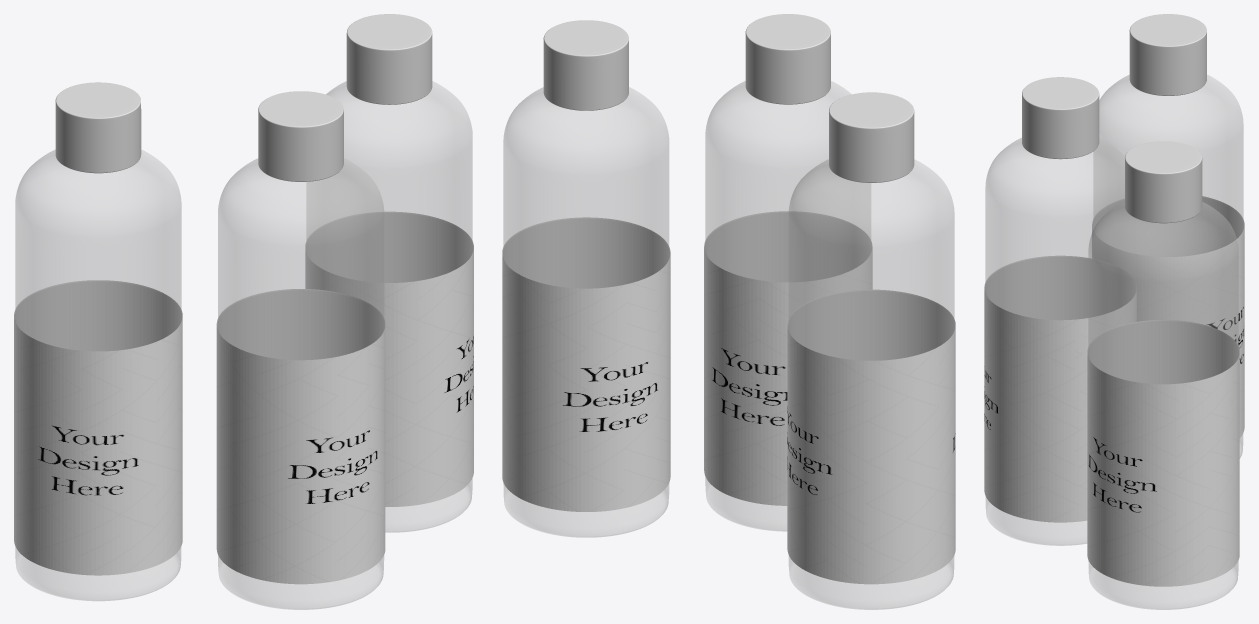
Rendered from Glass_Bottle-A6.glb.
3 views of the same model, side by side, from view 1: azimuth 30°, elevation 25°; view 2: azimuth 150°, elevation 25°; view 3: azimuth 270°, elevation 25° (orthographic). The views are drawn at different scales.
Visible parts, largest first — view 1: Circle.005, Circle.007, Circle.006, Circle.004, Circle.010, Circle.011, Circle.008, Circle.001, Circle.012, Circle.002, Circle.009, Circle.003; view 2: Circle.007, Circle.011, Circle.006, Circle.010, Circle.004, Circle.005, Circle.012, Circle.008, Circle.001, Circle.003, Circle.009, Circle.002; view 3: Circle.011, Circle.010, Circle.004, Circle.005, Circle.006, Circle.007, Circle.012, Circle.001, Circle.003, Circle.009, Circle.002, Circle.008.
Boxes of the visible parts, x1=… form: Circle.005: x1=216, y1=289, x2=385, y2=584; Circle.007: x1=14, y1=280, x2=182, y2=575; Circle.006: x1=15, y1=150, x2=181, y2=600; Circle.004: x1=218, y1=158, x2=383, y2=609; Circle.010: x1=306, y1=81, x2=472, y2=532; Circle.011: x1=305, y1=211, x2=473, y2=506; Circle.008: x1=14, y1=281, x2=181, y2=351; Circle.001: x1=217, y1=290, x2=384, y2=360; Circle.012: x1=306, y1=213, x2=473, y2=282; Circle.002: x1=55, y1=82, x2=141, y2=173; Circle.009: x1=346, y1=14, x2=432, y2=104; Circle.003: x1=258, y1=91, x2=343, y2=181; Circle.007: x1=787, y1=289, x2=955, y2=584; Circle.011: x1=502, y1=217, x2=670, y2=511; Circle.006: x1=789, y1=159, x2=954, y2=609; Circle.010: x1=503, y1=87, x2=668, y2=537; Circle.004: x1=705, y1=81, x2=870, y2=531; Circle.005: x1=704, y1=211, x2=872, y2=505; Circle.012: x1=503, y1=218, x2=669, y2=288; Circle.008: x1=788, y1=291, x2=954, y2=360; Circle.001: x1=704, y1=212, x2=871, y2=282; Circle.003: x1=745, y1=14, x2=830, y2=104; Circle.009: x1=543, y1=20, x2=628, y2=110; Circle.002: x1=829, y1=92, x2=914, y2=182; Circle.011: x1=1087, y1=320, x2=1239, y2=586; Circle.010: x1=1088, y1=202, x2=1238, y2=609; Circle.004: x1=985, y1=138, x2=1135, y2=545; Circle.005: x1=984, y1=255, x2=1136, y2=522; Circle.006: x1=1093, y1=75, x2=1243, y2=457; Circle.007: x1=1092, y1=196, x2=1244, y2=438; Circle.012: x1=1088, y1=321, x2=1239, y2=384; Circle.001: x1=985, y1=257, x2=1136, y2=320; Circle.003: x1=1022, y1=77, x2=1099, y2=159; Circle.009: x1=1125, y1=141, x2=1202, y2=223; Circle.002: x1=1129, y1=14, x2=1206, y2=95; Circle.008: x1=1092, y1=197, x2=1243, y2=256.
Size of the model in its own units: 5.99 by 6.16 by 3.44.
4 materials, 1 textured.
